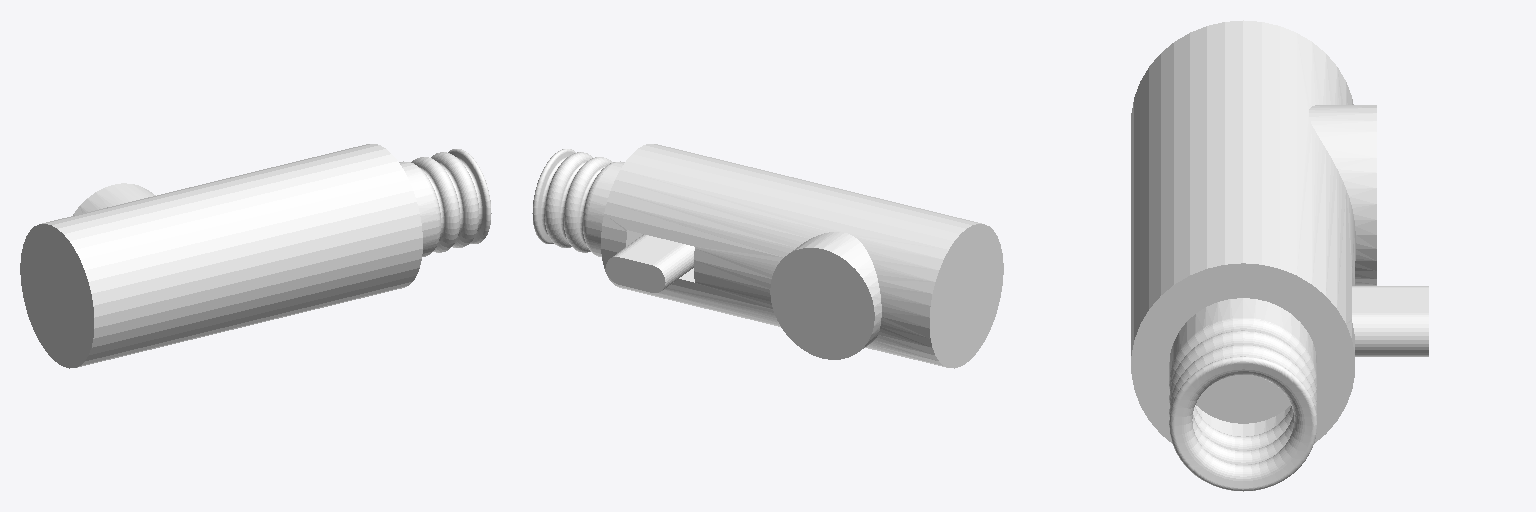
robot.urdf — mycobot_ai:
<?xml version="1.0"?>
<robot xmlns:xacro="http://www.ros.org/wiki/xacro" name="mycobot_ai">
  <material name="white">
    <color rgba="1 1 1 1"/>
  </material>

  <link name="env">
    <visual>
      <geometry>
        <!--- 0.0 0 -0.04  1.5708 3.14159-->
        <mesh filename="package://robot_description/urdf/suit_env_v2.dae"/>
      </geometry>
      <!-- <origin xyz = "0 0 -0.02 " rpy = "1.5708 0 -1.5708"/> -->
      <origin xyz = "0.16 0 0.0 " rpy = "0 0 3.14159"/>
    </visual>
    <collision>
      <geometry>
        <!--- 0.0 0 -0.04  1.5708 3.14159-->
        <mesh filename="package://robot_description/urdf/env_meters.STL"/>
      </geometry>
      <!-- <origin xyz = "0 0 -0.02 " rpy = "1.5708 0 -1.5708"/> -->
      <origin xyz = "0.16 0 0.0 " rpy = "0 0 3.14159"/>
    </collision>
  </link>

  <link name="joint1">
    <visual>
      <geometry>
        <!--- 0.0 0 -0.04  1.5708 3.14159-->
        <mesh filename="package://robot_description/urdf/joint1_pi.dae"/>
      </geometry>
      <origin xyz = "0.0 0 0 " rpy = " 0 0 0"/>
    </visual>
    <collision>
      <geometry>
        <!--- 0.0 0 -0.04  1.5708 3.14159-->
        <mesh filename="package://robot_description/urdf/joint1_pi.dae"/>
      </geometry>
      <origin xyz = "0.0 0 0 " rpy = " 0 0 0"/>
    </collision>
  </link>

  <link name="joint2">
    <visual>
      <geometry>
        <mesh filename="package://robot_description/urdf/joint2.dae"/>
      </geometry>
      <origin xyz = "0.0 0 -0.06096 " rpy = " 0 0 -1.5708"/>
    </visual>
    <collision>
      <geometry>
        <mesh filename="package://robot_description/urdf/joint2.dae"/>
      </geometry>
      <origin xyz = "0.0 0 -0.06096 " rpy = " 0 0 -1.5708"/>
    </collision>
  </link>


  <link name="joint3">
    <visual>
      <geometry>
        <mesh filename="package://robot_description/urdf/joint3.dae"/>
      </geometry>
      <origin xyz = "0.0 0 0.03256 " rpy = " 0 -1.5708 0"/>
    </visual>
    <collision>
      <geometry>
        <mesh filename="package://robot_description/urdf/joint3.dae"/>
      </geometry>
      <origin xyz = "0.0 0 0.03256 " rpy = " 0 -1.5708 0"/>
    </collision>
  </link>


  <link name="joint4">
    <visual>
      <geometry>
        <!--- 0.0 0 -0.04 -->
        <mesh filename="package://robot_description/urdf/joint4.dae"/>
      </geometry>
      <origin xyz = "0.0 0 0.03056 " rpy = " 0 -1.5708 0"/>
    </visual>
    <collision>
      <geometry>
        <!--- 0.0 0 -0.04 -->
        <mesh filename="package://robot_description/urdf/joint4.dae"/>
      </geometry>
      <origin xyz = "0.0 0 0.03056 " rpy = " 0 -1.5708 0"/>
    </collision>
  </link>


  <link name="joint5">
    <visual>
      <geometry>
        <!--- 0.0 0 -0.04 -->
        <mesh filename="package://robot_description/urdf/joint5.dae"/>
      </geometry>
      <origin xyz = "0.0 0 -0.03356 " rpy = "0 -1.5708 1.5708"/>
    </visual>
    <collision>
      <geometry>
        <!--- 0.0 0 -0.04 -->
        <mesh filename="package://robot_description/urdf/joint5.dae"/>
      </geometry>
      <origin xyz = "0.0 0 -0.03356 " rpy = "0 -1.5708 1.5708"/>
    </collision>
  </link>


  <link name="joint6">
    <visual>
      <geometry>
        <!--- 0.0 0 -0.04 -->
        <mesh filename="package://robot_description/urdf/joint6.dae"/>
      </geometry>
      <origin xyz = "0 0.00 -0.038 " rpy = " 0 0 0"/>
    </visual>
    <collision>
      <geometry>
        <!--- 0.0 0 -0.04 -->
        <mesh filename="package://robot_description/urdf/joint6.dae"/>
      </geometry>
      <origin xyz = "0 0.00 -0.038 " rpy = " 0 0 0"/>
    </collision>
  </link>


  <link name="joint6_flange">
    <visual>
      <geometry>
        <!--- 0.0 0 -0.04 -->
        <mesh filename="package://robot_description/urdf/joint7.dae"/>
      </geometry>
      <origin xyz = "0.0 0 -0.012 " rpy = " 0 0 0"/>
    </visual>
    <collision>
      <geometry>
        <!--- 0.0 0 -0.04 -->
        <mesh filename="package://robot_description/urdf/joint7.dae"/>
      </geometry>
      <origin xyz = "0.0 0 -0.012 " rpy = " 0 0 0"/>
    </collision>
  </link>

  <link name="suction_pump">
    <visual>
      <geometry>
        <!--- 0.0 0 -0.04 -->
        <mesh filename="package://robot_description/urdf/SuctionPumpMeters.STL"/>
      </geometry>
      <material name="white"/>
      <origin xyz = "-0.01882 0.01232 0" rpy = "1.5708 0 0"/>
    </visual>
    <collision>
      <geometry>
        <!--- 0.0 0 -0.04 -->
        <mesh filename="package://robot_description/urdf/SuctionPumpMeters.STL"/>
      </geometry>
      <origin xyz = "-0.01882 0.01232 0" rpy = "1.5708 0 0"/>
    </collision>
  </link>



  <joint name="joint2_to_joint1" type="revolute">
    <axis xyz="0 0 1"/>
    <limit effort = "1000.0" lower = "-3.14" upper = "3.14159" velocity = "0"/>
    <parent link="joint1"/>
    <child link="joint2"/>
    <origin xyz= "0 0 0.13156" rpy = "0 0 0"/>
  </joint>

  <joint name="joint3_to_joint2" type="revolute">
    <axis xyz="0 0 1"/>
    <limit effort = "1000.0" lower = "-3.14" upper = "3.14159" velocity = "0"/>
    <parent link="joint2"/>
    <child link="joint3"/>
    <origin xyz= "0 0  0" rpy = "0 1.5708 -1.5708"/>
  </joint>


  <joint name="joint4_to_joint3" type="revolute">
    <axis xyz=" 0 0 1"/>
    <limit effort = "1000.0" lower = "-3.14" upper = "3.14159" velocity = "0"/>
    <parent link="joint3"/>
    <child link="joint4"/>
    <origin xyz= "  -0.1104 0 0   " rpy = "0 0 0"/>
  </joint>



  <joint name="joint5_to_joint4" type="revolute">
    <axis xyz=" 0 0 1"/>
    <limit effort = "1000.0" lower = "-3.14" upper = "3.14159" velocity = "0"/>
    <parent link="joint4"/>
    <child link="joint5"/>
    <origin xyz= "-0.096 0 0.06462" rpy = "0 0 -1.5708"/>
  </joint>

  <joint name="joint6_to_joint5" type="revolute">
    <axis xyz="0 0 1"/>
    <limit effort = "1000.0" lower = "-3.14" upper = "3.14159" velocity = "0"/>
    <parent link="joint5"/>
    <child link="joint6"/>
    <origin xyz= "0 -0.07318 0" rpy = "1.5708 -1.5708 0"/>
  </joint>

  <joint name="joint6output_to_joint6" type="revolute">
    <axis xyz="0 0 1"/>
    <limit effort = "1000.0" lower = "-3.14" upper = "3.14159" velocity = "0"/>
    <parent link="joint6"/>
    <child link="joint6_flange"/>
    <origin xyz= "0 0.0456 0" rpy = "-1.5708 0 0"/>
  </joint>
  
  <joint name="joint6output_to_suction_pump" type="fixed">
    <axis xyz="0 0 0"/>
    <limit effort = "1000.0" lower = "-3.14" upper = "3.14159" velocity = "0"/>
    <parent link="joint6_flange"/>
    <child link="suction_pump"/>
    <origin xyz= "0 0 0" rpy = "0 0 0"/>
  </joint>

  <joint name="vision_joint" type="fixed">
    <axis xyz="0 0 0"/>
    <limit effort = "1000.0" lower = "-3.14" upper = "3.14159" velocity = "0"/>
    <parent link="joint1"/>
    <child link="env"/>
    <origin xyz= "0 0 0" rpy = "0 0 0"/>
  </joint>

</robot>

--- Facts derived from the render (not from the file) ---
The picture shows the robot from 3 angles, left to right: view 1: azimuth 30°, elevation 25°; view 2: azimuth 150°, elevation 25°; view 3: azimuth 270°, elevation 25°; orthographic projection.
Model mycobot_ai with 9 links and 8 joints (6 revolute, 2 fixed), rooted at joint1, posed every joint at zero.
Visible links, largest first — view 1: suction_pump; view 2: suction_pump; view 3: suction_pump.
Link boxes in pixels (bbox=[...]): suction_pump: bbox=[20, 144, 491, 368]; suction_pump: bbox=[532, 144, 1003, 368]; suction_pump: bbox=[1131, 20, 1428, 491].
Bounding box of the posed robot: 0.0787 × 0.0326 × 0.0246 m (x, y, z).
Meshes: 9 distinct files referenced, 1 mesh visuals loaded (1 binary STL); not drawn: 8 (reference not matched to a file when rendering).